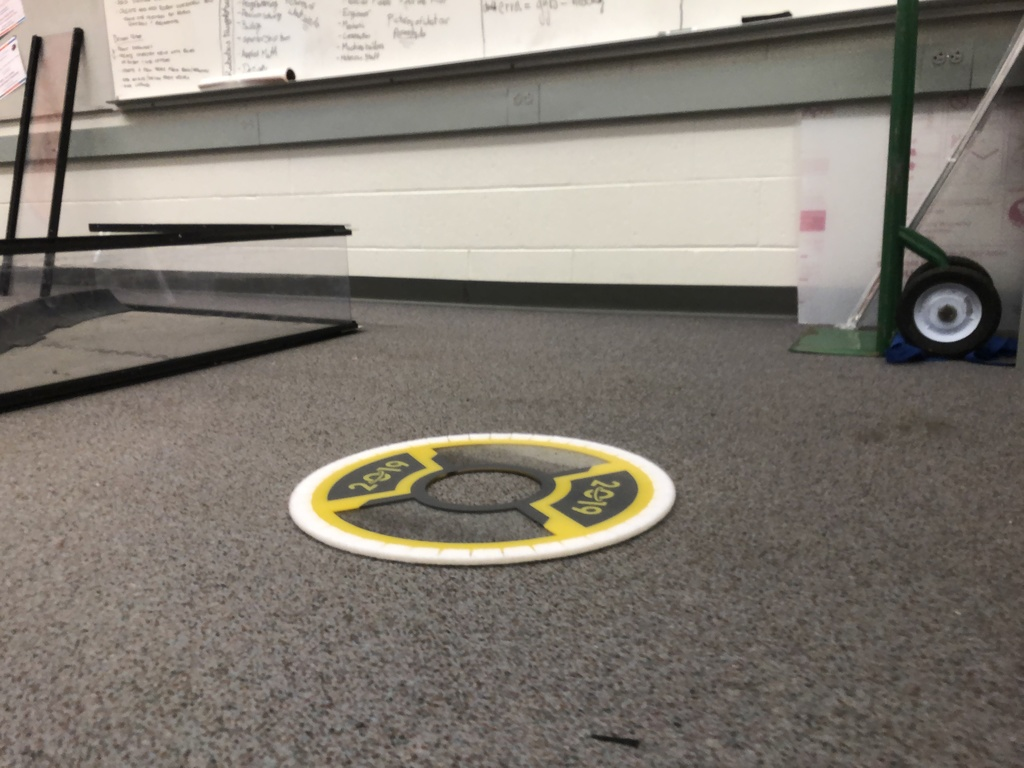hatch_panel: (267, 421, 693, 571)
